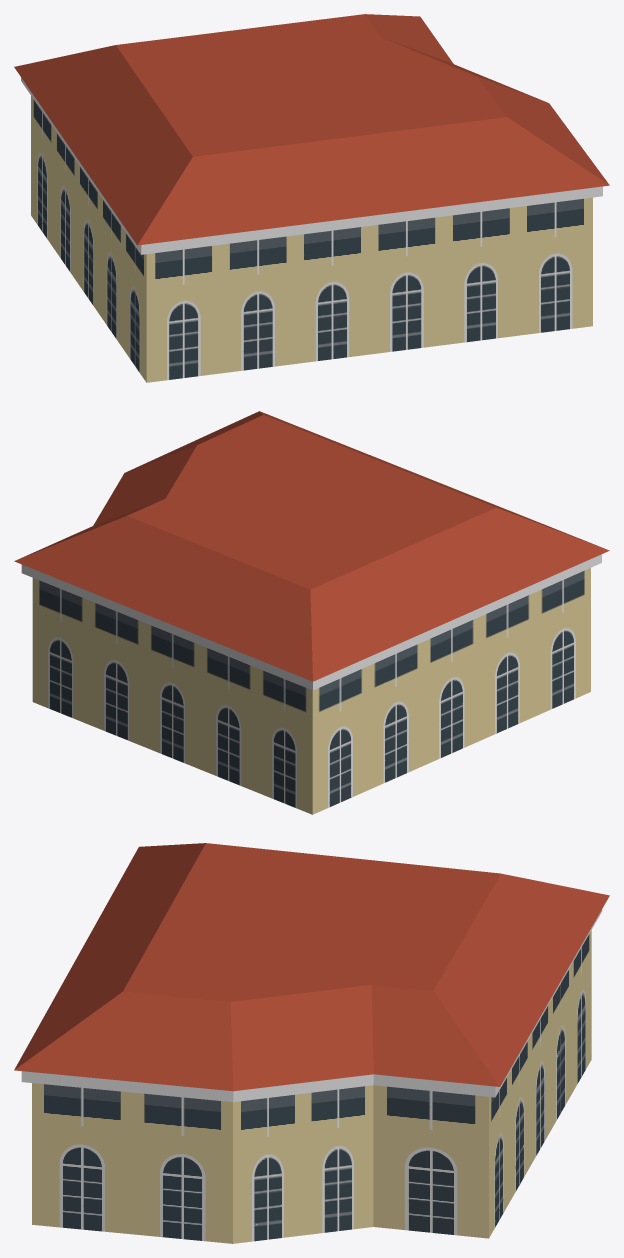
The model's file is censo.glb.
The picture shows the model from 3 angles, top to bottom: view 1: azimuth 30°, elevation 25°; view 2: azimuth 150°, elevation 25°; view 3: azimuth 270°, elevation 25°; orthographic projection. The views are drawn at different scales.
Visible parts, largest first — view 1: censo_lod0; view 2: censo_lod0; view 3: censo_lod0.
Part boxes in pixels (bbox=[...]): censo_lod0: bbox=[14, 14, 609, 382]; censo_lod0: bbox=[14, 411, 609, 814]; censo_lod0: bbox=[14, 843, 609, 1243].
Size of what is drawn, in the model's own units: 23.05 by 9.2 by 23.75.
Materials: 4 (2 with a texture image).
